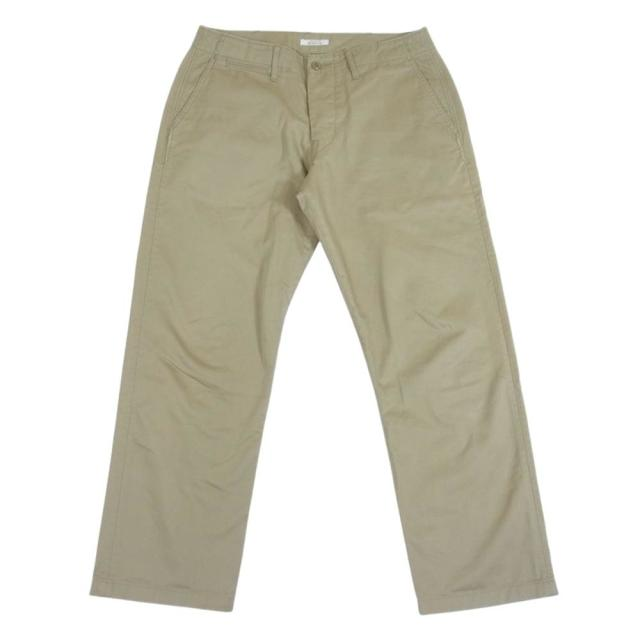long-pants: (89, 25, 558, 616)
